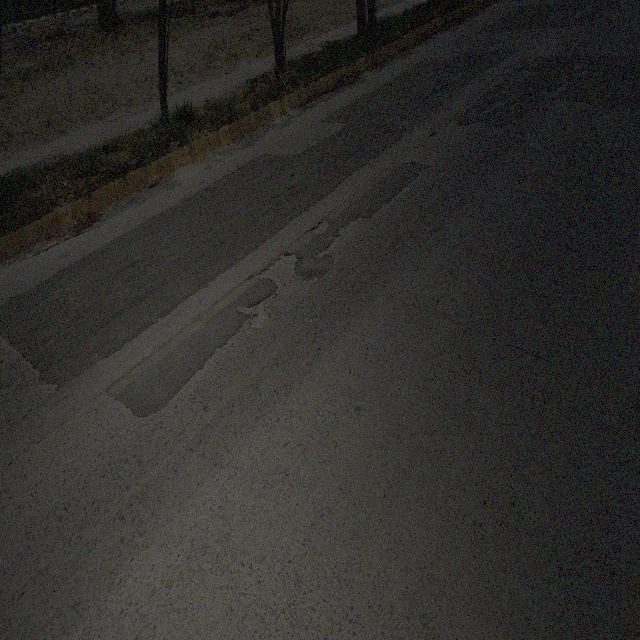pothole: (260, 247, 303, 299), (239, 296, 267, 330), (537, 76, 570, 102), (311, 215, 329, 239), (507, 94, 529, 110), (572, 56, 590, 71), (517, 66, 538, 76), (491, 98, 506, 109), (430, 124, 442, 137)
